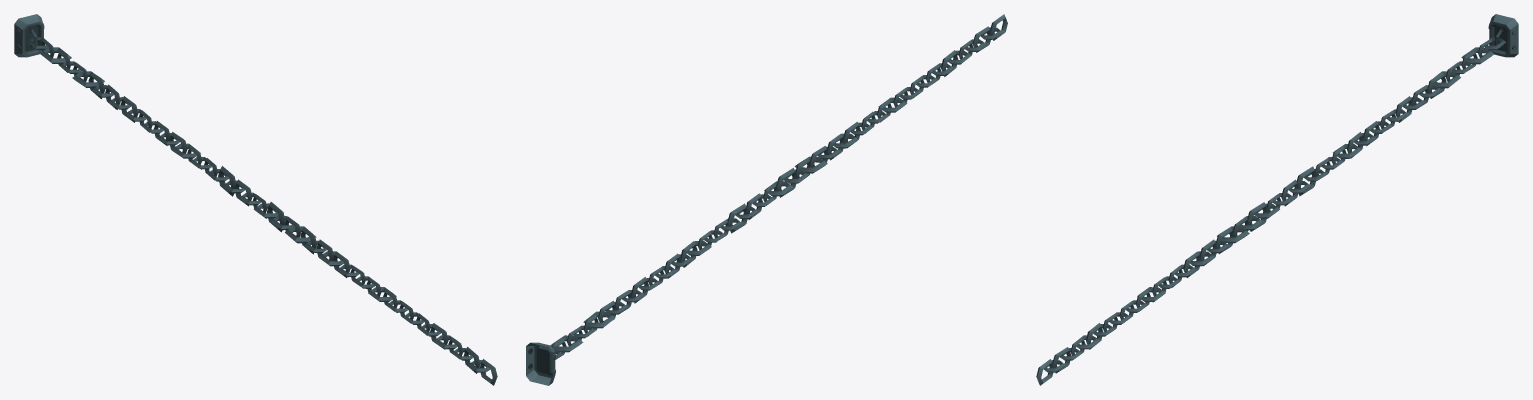
The model's file is obj_chain_base.FBX.
3 renders of one model, left to right at view 1: azimuth 30°, elevation 25°; view 2: azimuth 150°, elevation 25°; view 3: azimuth 330°, elevation 25°, orthographic.
Visible parts, largest first — view 1: obj_chain_base; view 2: obj_chain_base; view 3: obj_chain_base.
Boxes of the visible parts, x1,y1,x2,y2 form: obj_chain_base: (14,14,497,385); obj_chain_base: (526,14,1007,385); obj_chain_base: (1036,14,1518,385).
Size of the model in its own units: 0.3699 by 0.5019 by 11.02.
